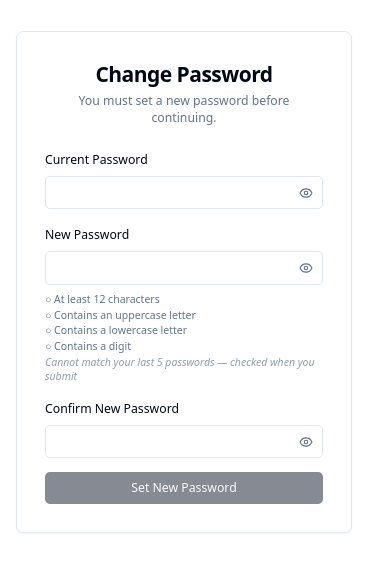
server errors › still surfaces a plain string detail
The image size is (369, 566).
In the password field labelled "Current Password": (184, 193) 45,176 -> 323,209, type "wrong"
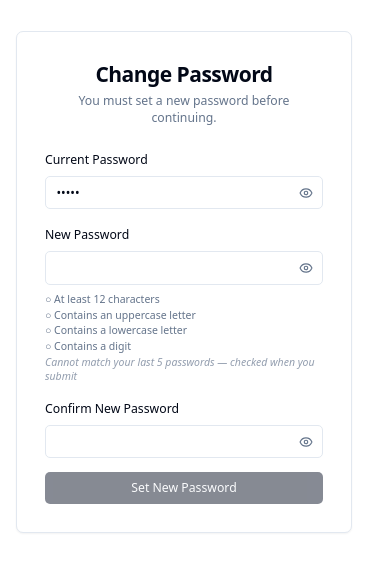
In the password field labelled "New Password": (184, 268) 45,251 -> 323,285, type "Abcdefghij12"
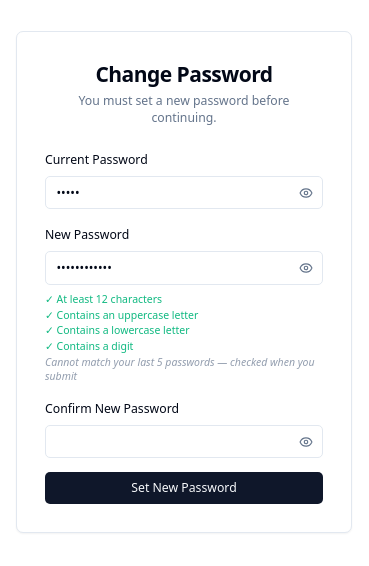
In the password field labelled "Confirm New Password": (184, 442) 45,425 -> 323,458, type "Abcdefghij12"
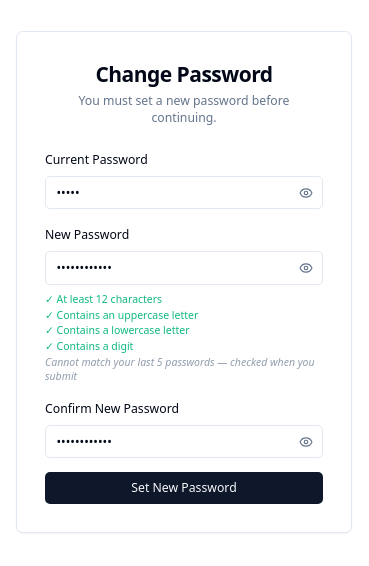
Click the button "Set New Password": (184, 488) 45,472 -> 323,504
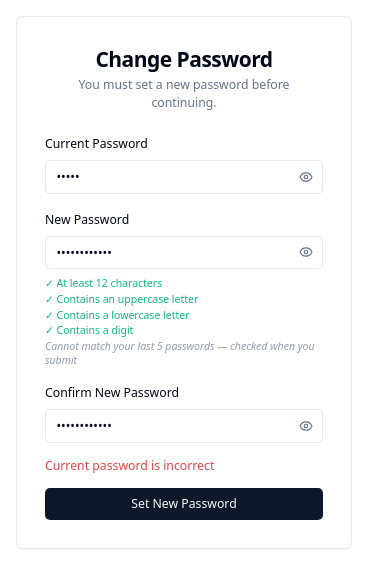
Expected: the text "Current password is incorrect" is shown, 45,456 -> 214,474
